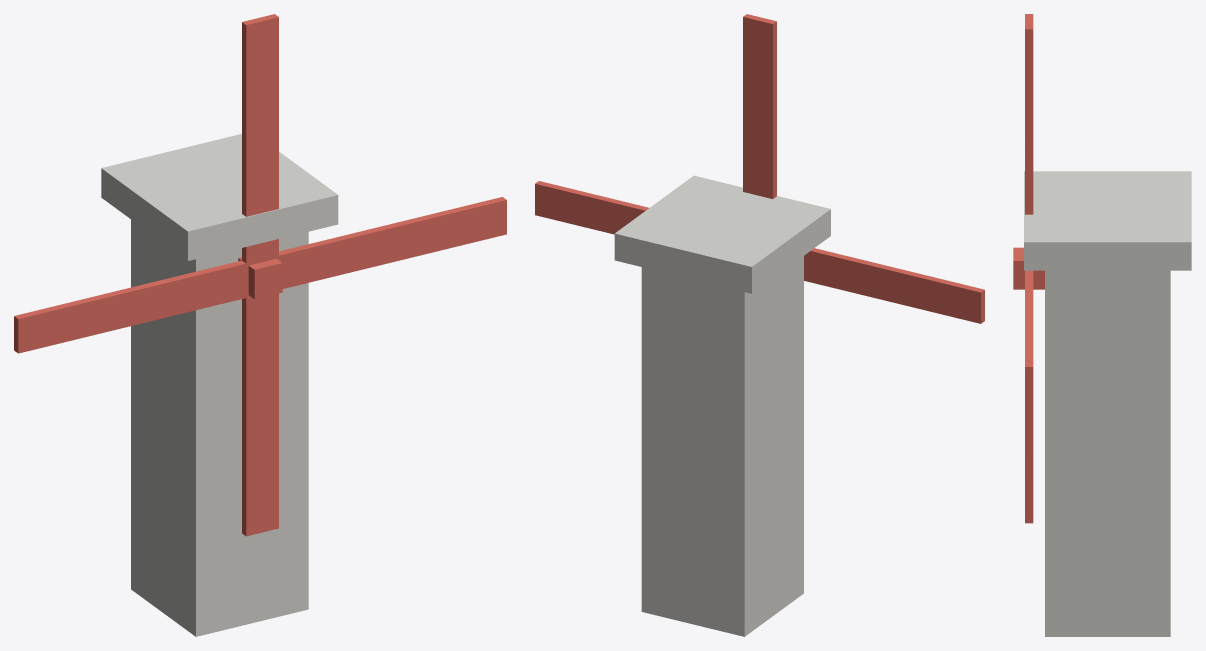
File: windmill.glb
3 renders of one model, left to right at view 1: azimuth 30°, elevation 25°; view 2: azimuth 150°, elevation 25°; view 3: azimuth 270°, elevation 25°, orthographic. The views are drawn at different scales.
Parts seen in each view (by area): view 1: tower, blades; view 2: tower, blades; view 3: tower, blades.
Part boxes in pixels (box(x1,y1,x2,y2)): tower: box(101, 134, 338, 636); blades: box(14, 14, 506, 536); tower: box(614, 175, 830, 636); blades: box(535, 14, 984, 323); tower: box(1024, 171, 1191, 636); blades: box(1013, 14, 1044, 523).
Bounding box in the file's own units: 5.2 × 6.2 × 1.7.
